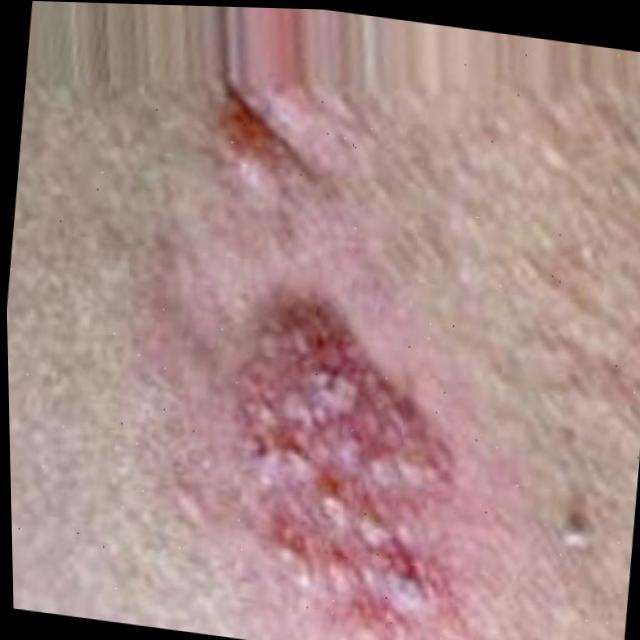Shingles: (211, 304, 477, 640)
